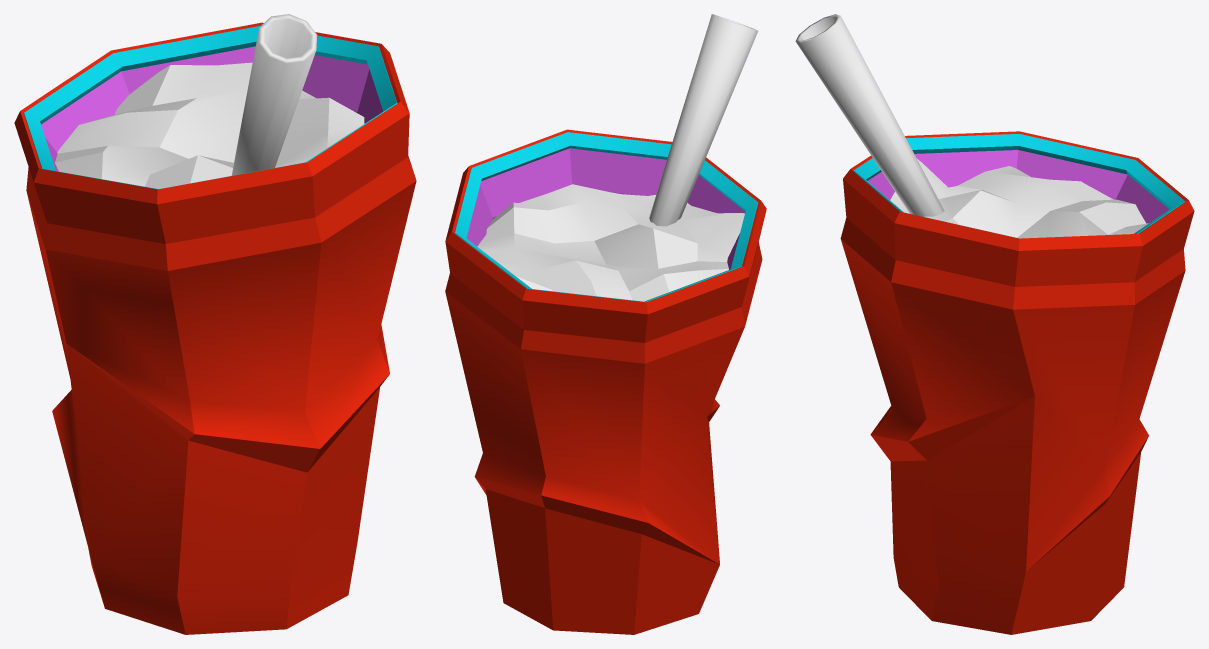
File: SM_Drink_Eye.fbx
3 views of the same model, side by side, from view 1: azimuth 30°, elevation 25°; view 2: azimuth 150°, elevation 25°; view 3: azimuth 270°, elevation 25° (orthographic). The views are drawn at different scales.
Visible parts, largest first — view 1: SM_Glass_Eye, SM_BlueGlassTop, SM_EyeTopping; view 2: SM_Glass_Eye, SM_BlueGlassTop, SM_EyeTopping; view 3: SM_Glass_Eye, SM_BlueGlassTop, SM_EyeTopping.
Boxes of the visible parts, bbox=[...] form: SM_Glass_Eye: bbox=[14, 22, 416, 634]; SM_BlueGlassTop: bbox=[55, 62, 364, 188]; SM_EyeTopping: bbox=[231, 14, 317, 175]; SM_Glass_Eye: bbox=[445, 129, 766, 634]; SM_BlueGlassTop: bbox=[477, 184, 744, 301]; SM_EyeTopping: bbox=[649, 14, 758, 226]; SM_Glass_Eye: bbox=[840, 131, 1194, 634]; SM_BlueGlassTop: bbox=[890, 159, 1148, 238]; SM_EyeTopping: bbox=[795, 14, 944, 216].
Bounding box in the file's own units: 22.23 × 38.32 × 25.15.
